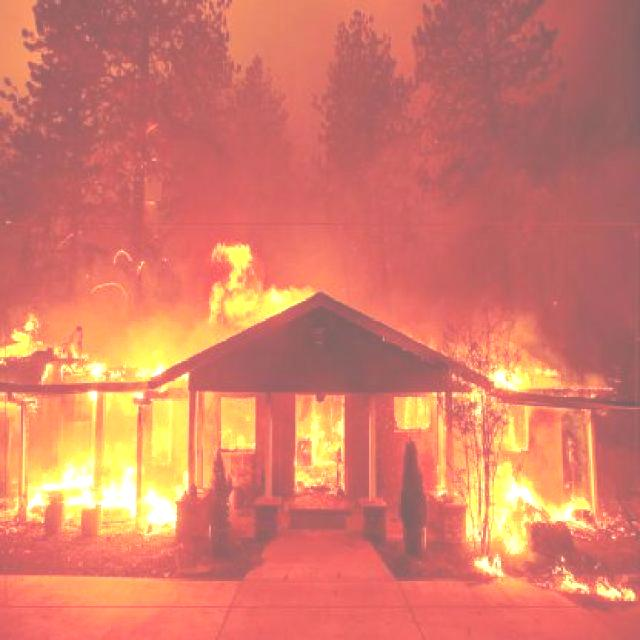fire: (6, 223, 636, 608)
